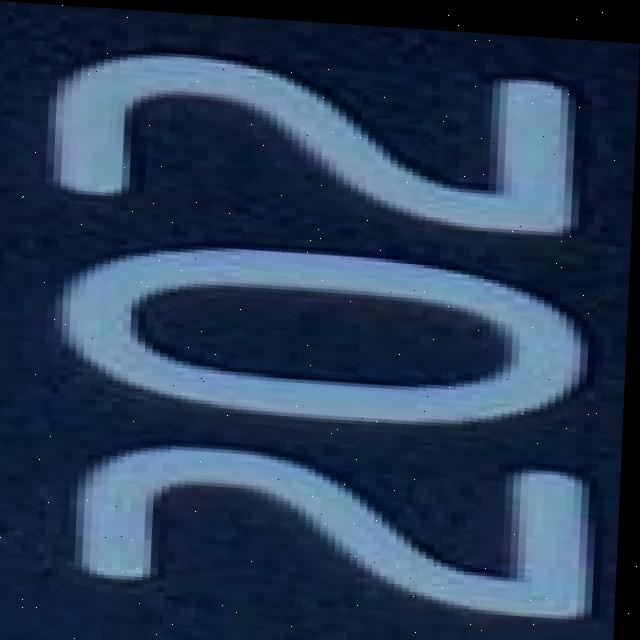character: (43, 227, 607, 444), (39, 34, 596, 241), (65, 427, 606, 635)
